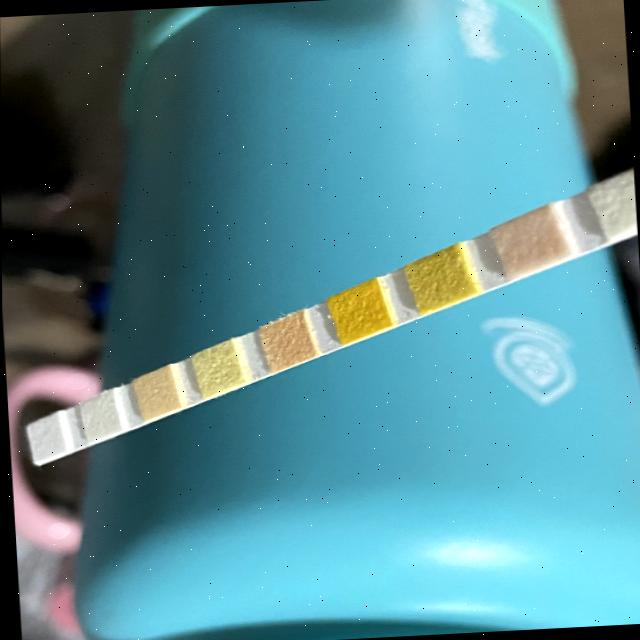Bilirubin: (598, 179, 636, 225)
Blood: (333, 291, 377, 331)
Ketone: (500, 221, 552, 264)
Leukocytes: (30, 421, 58, 454)
Nitrite: (84, 400, 112, 436)
Protein: (195, 350, 232, 388)
SpGravity: (414, 258, 458, 302)
Urobilinogen: (136, 374, 168, 412)
pH: (263, 322, 304, 362)
